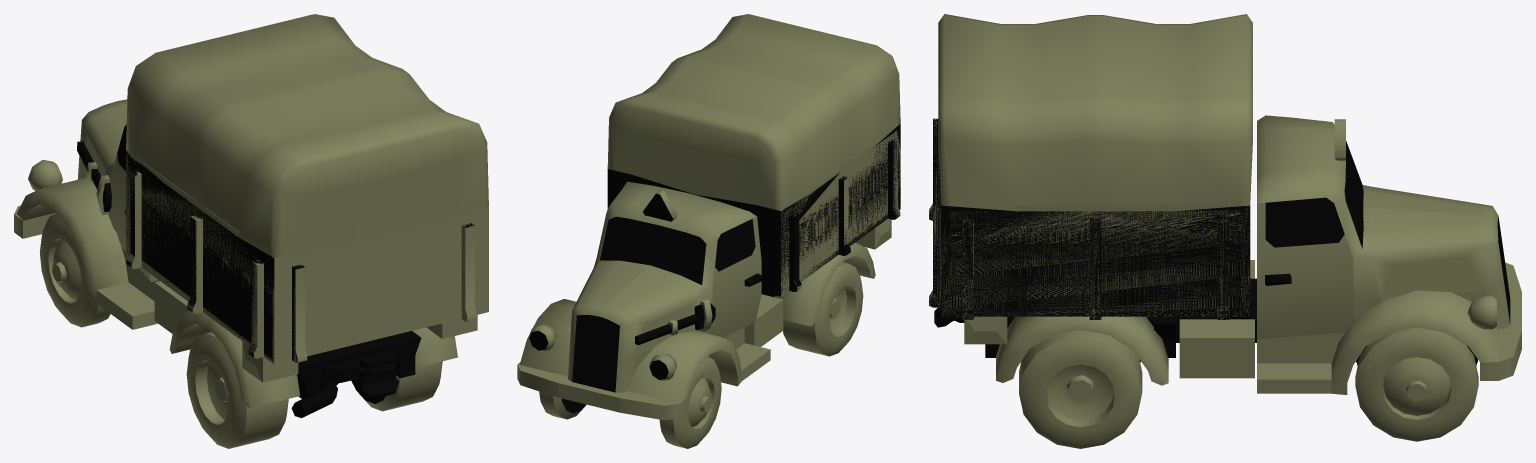
Rendered from Truck_G_Opel_Blitz.fbx.
The picture shows the model from 3 angles, left to right: view 1: azimuth 30°, elevation 25°; view 2: azimuth 150°, elevation 25°; view 3: azimuth 270°, elevation 25°; orthographic projection. The views are drawn at different scales.
Parts seen in each view (by area): view 1: back_canvas, back_open, hull, tire_back, tire_front_l, wheel_back, wheel_front_l; view 2: back_canvas, hull, back_open, tire_back, tire_front_l, wheel_front_l, wheel_back, tire_front_r; view 3: back_canvas, hull, back_open, tire_back, tire_front_r, wheel_front_r, wheel_back.
Boxes of the visible parts, left/top/right/bottom form: back_canvas: left=126, top=14, right=488, bottom=362; back_open: left=126, top=150, right=488, bottom=364; hull: left=14, top=99, right=477, bottom=417; tire_back: left=186, top=332, right=442, bottom=448; tire_front_l: left=39, top=213, right=110, bottom=327; wheel_back: left=193, top=356, right=385, bottom=428; wheel_front_l: left=46, top=234, right=83, bottom=307; back_canvas: left=607, top=14, right=900, bottom=296; hull: left=517, top=181, right=891, bottom=420; back_open: left=781, top=130, right=900, bottom=296; tire_back: left=783, top=262, right=863, bottom=356; tire_front_l: left=659, top=357, right=721, bottom=448; wheel_front_l: left=686, top=374, right=716, bottom=432; wheel_back: left=828, top=281, right=857, bottom=340; tire_front_r: left=539, top=391, right=585, bottom=419; back_canvas: left=929, top=14, right=1252, bottom=319; hull: left=934, top=115, right=1521, bottom=394; back_open: left=929, top=118, right=1250, bottom=319; tire_back: left=1019, top=330, right=1142, bottom=448; tire_front_r: left=1355, top=327, right=1478, bottom=441; wheel_front_r: left=1378, top=353, right=1455, bottom=423; wheel_back: left=1041, top=360, right=1119, bottom=430.
Size of the model in its own units: 312 by 655 by 419.
